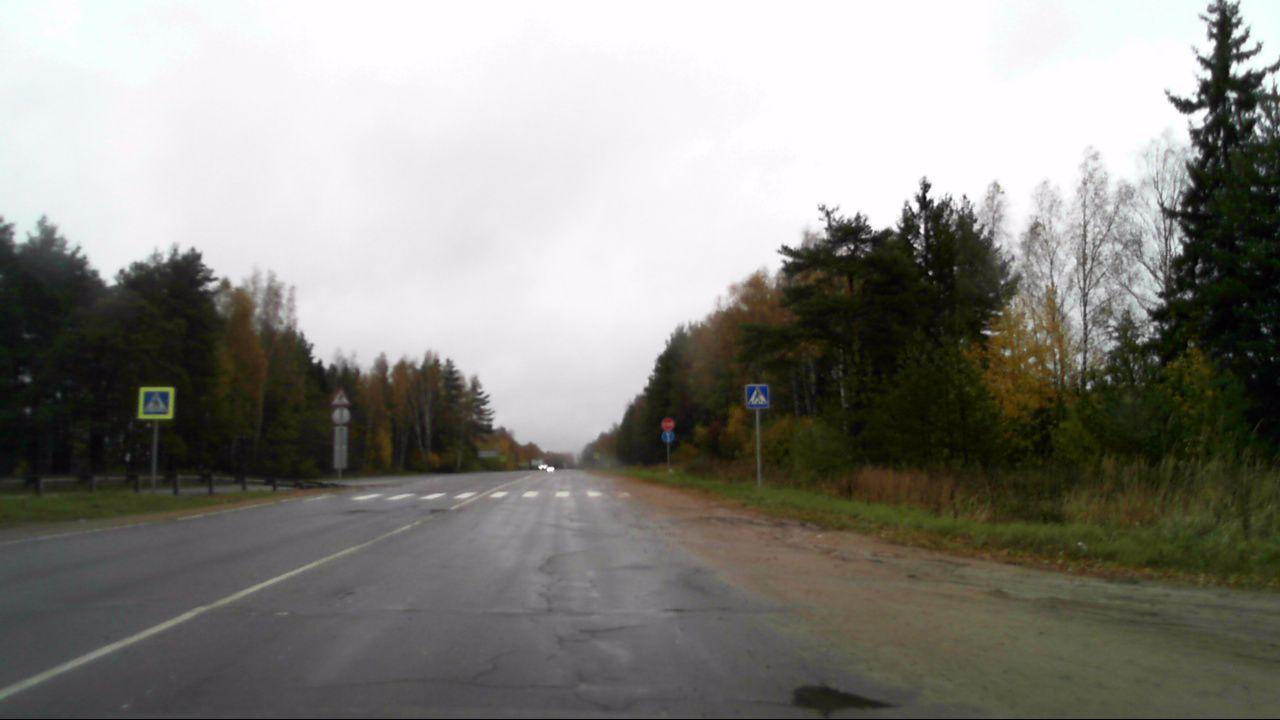road_sign: (134, 384, 177, 424), (744, 383, 772, 411)
